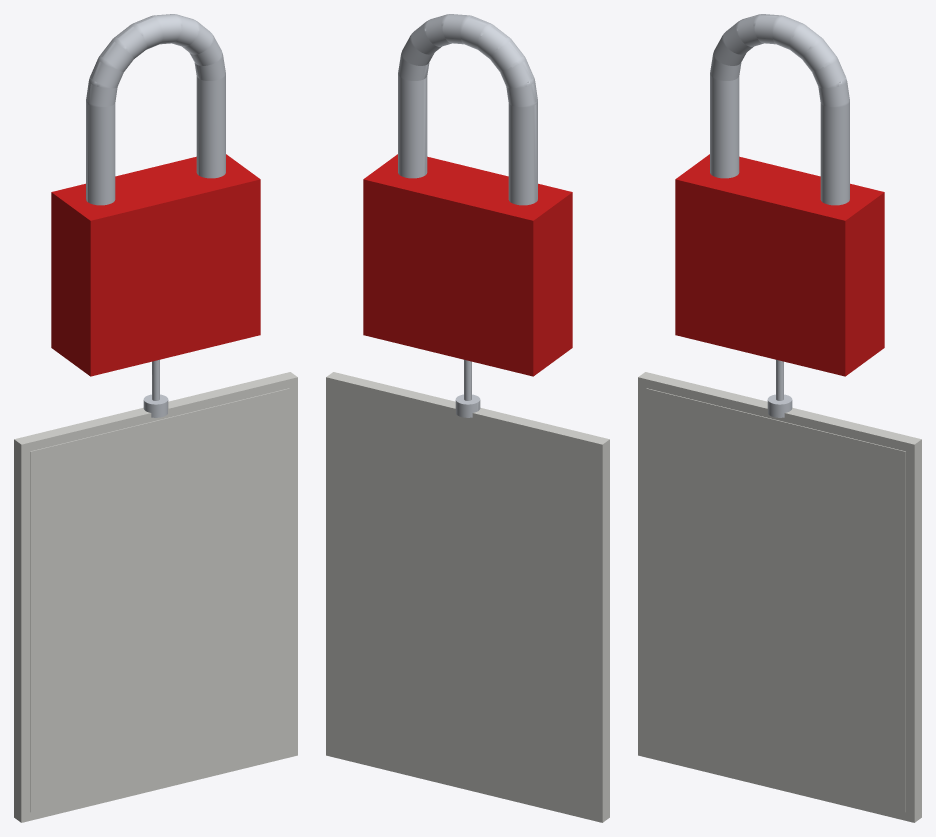
The model's file is Candado.fbx.
3 renders of one model, left to right at view 1: azimuth 30°, elevation 25°; view 2: azimuth 150°, elevation 25°; view 3: azimuth 330°, elevation 25°, orthographic.
Visible parts, largest first — view 1: TagFace, Body, Tag, Shackle; view 2: Tag, Body, Shackle; view 3: TagFace, Body, Tag, Shackle.
Boxes of the visible parts, x1,y1,x2,y2 form: TagFace: [30, 388, 289, 812]; Body: [51, 154, 260, 376]; Tag: [14, 359, 297, 822]; Shackle: [86, 14, 225, 205]; Tag: [326, 359, 609, 822]; Body: [363, 154, 572, 376]; Shackle: [398, 14, 537, 205]; TagFace: [646, 388, 905, 812]; Body: [675, 154, 884, 376]; Tag: [638, 359, 921, 822]; Shackle: [710, 14, 849, 205].
Size of the model in its own units: 0.065 by 0.173 by 0.016.
